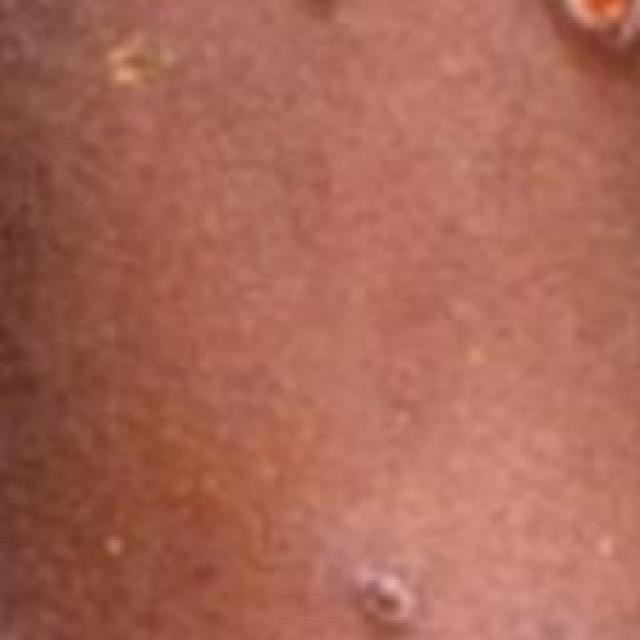monkeypox: (63, 0, 640, 635)
